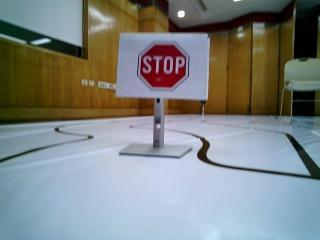stop: (123, 36, 199, 94)
